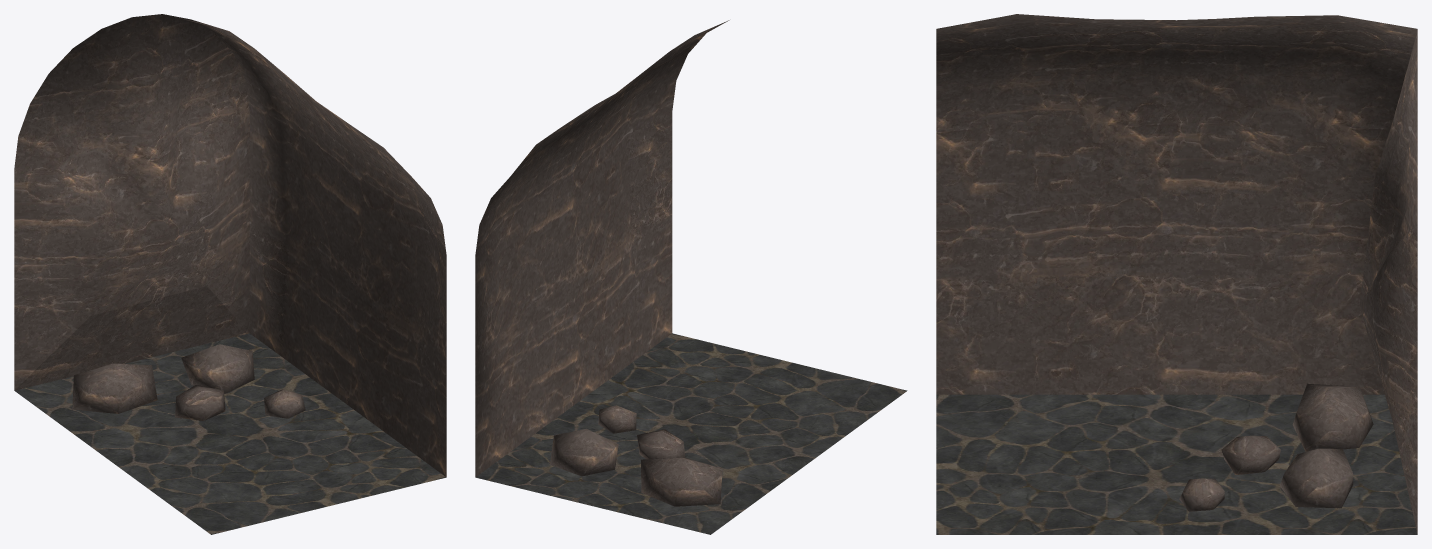
File: hall-dead-end.db886022.gltf
3 renders of one model, left to right at view 1: azimuth 30°, elevation 25°; view 2: azimuth 150°, elevation 25°; view 3: azimuth 270°, elevation 25°, orthographic. The views are drawn at different scales.
Parts seen in each view (by area): view 1: hall-dead-end-mesh; view 2: hall-dead-end-mesh; view 3: hall-dead-end-mesh.
Part boxes in pixels (x1,y1,x2,y2): hall-dead-end-mesh: (14, 14, 446, 534); hall-dead-end-mesh: (475, 20, 907, 534); hall-dead-end-mesh: (936, 14, 1417, 534).
Size of the model in its own units: 2.22 by 3.04 by 2.9.
Materials: 2 (2 with a texture image).
